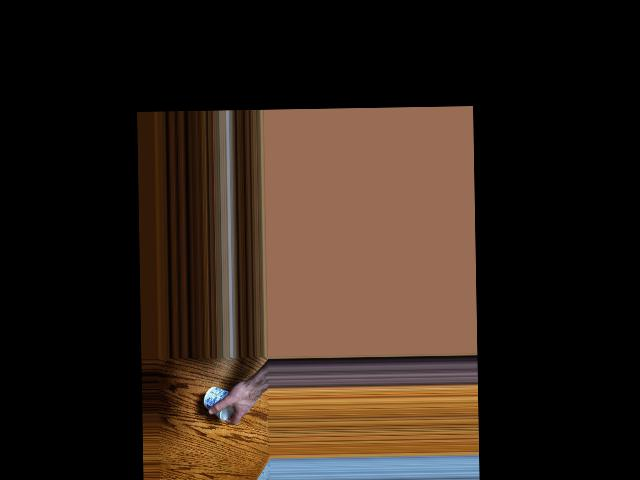cotage: (204, 384, 236, 420)
